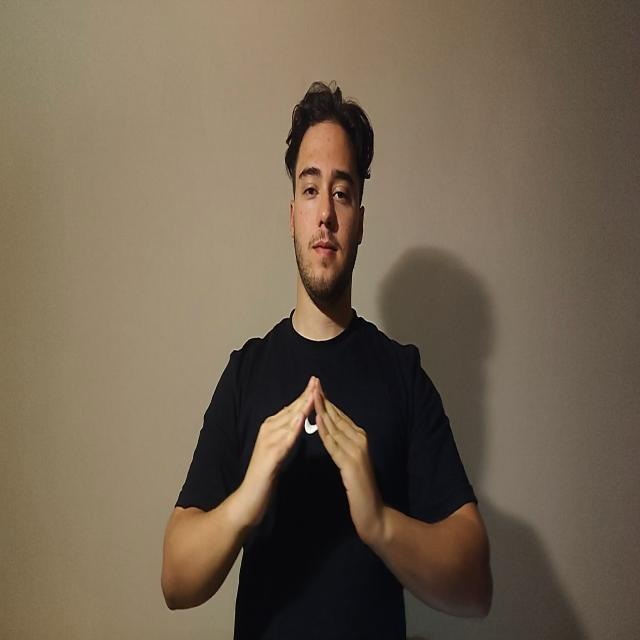house: (237, 377, 384, 542)
